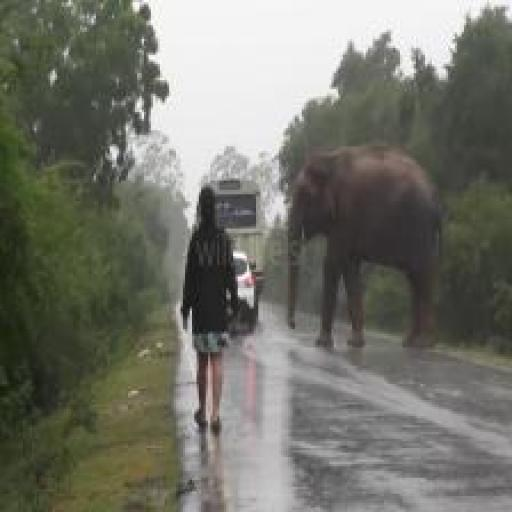Elephant: (272, 139, 465, 366)
